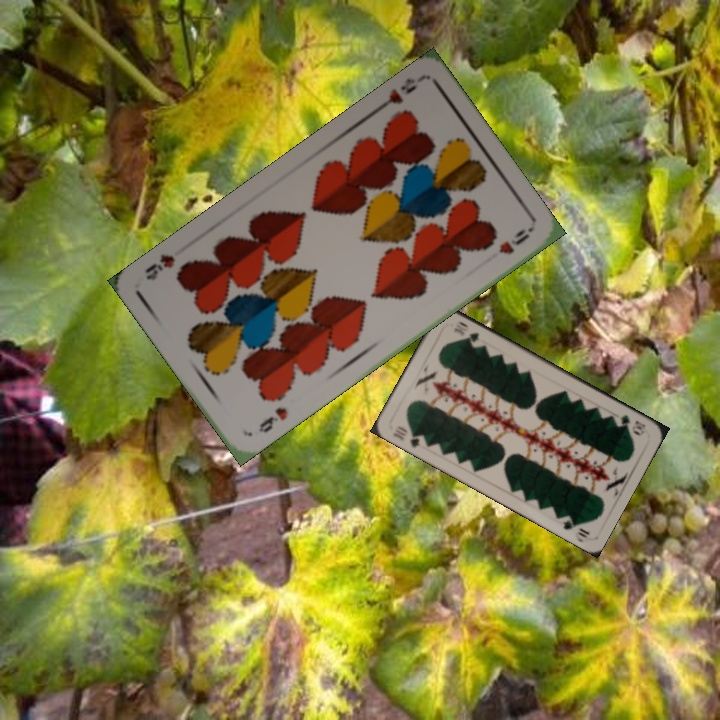G10: (389, 422, 428, 450), (616, 411, 648, 438)
H9: (372, 74, 420, 114), (254, 403, 291, 436)
